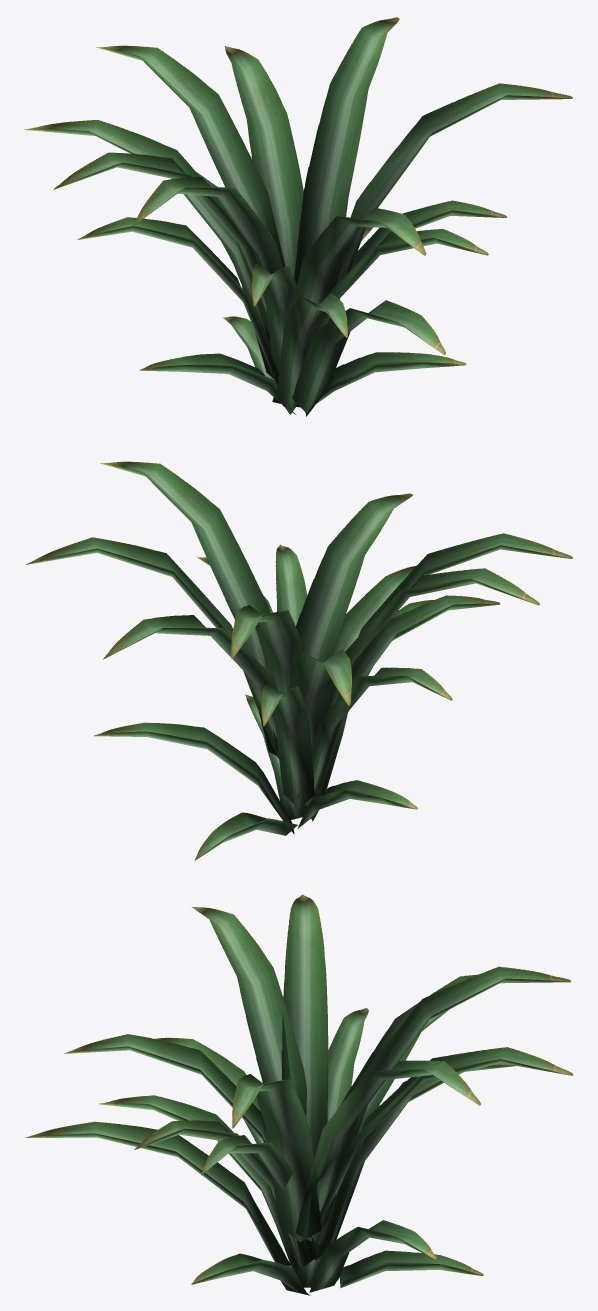
File: Yucca02.FBX
3 views of the same model, one above another, from view 1: azimuth 30°, elevation 25°; view 2: azimuth 150°, elevation 25°; view 3: azimuth 270°, elevation 25° (orthographic).
Visible parts, largest first — view 1: Yucca02; view 2: Yucca02; view 3: Yucca02.
Boxes of the visible parts, x1,y1,x2,y2 form: Yucca02: [24, 17, 572, 416]; Yucca02: [25, 461, 572, 860]; Yucca02: [25, 894, 573, 1295].
Bounding box in the file's own units: 213 × 125 × 212.
